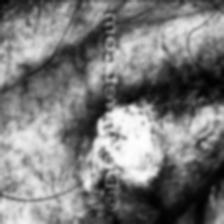Potentially Malignant Skin Tumors: (119, 94, 159, 176), (83, 114, 98, 184)
